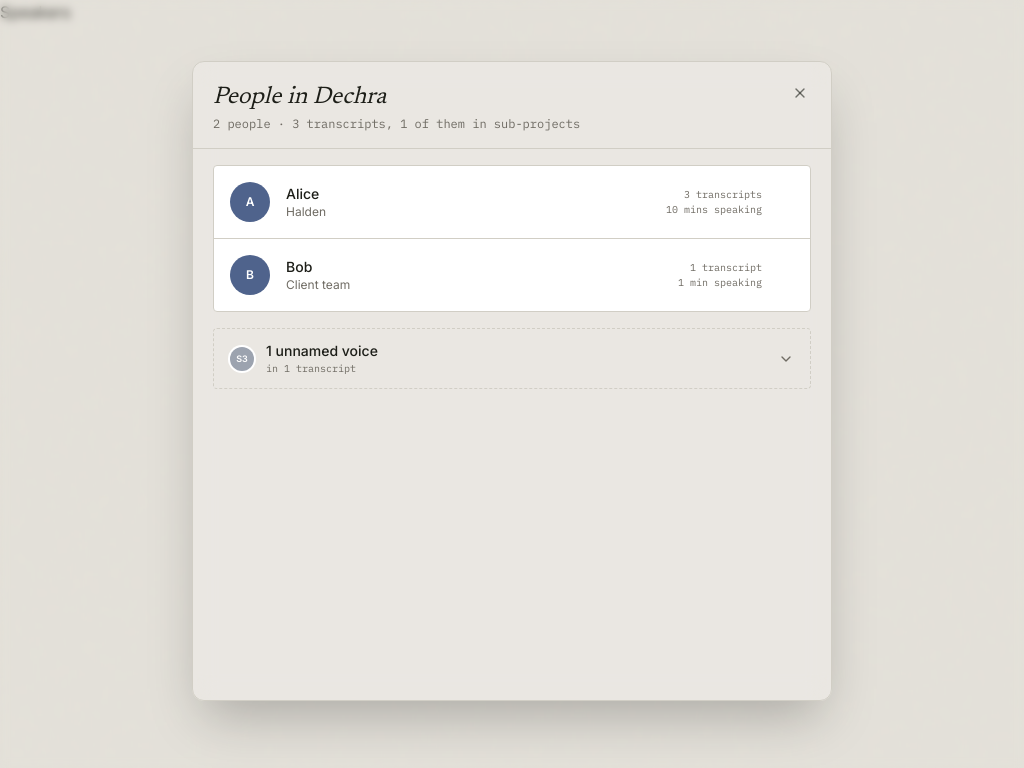
ProjectPeopleDialog › the summary follows the rows it sits above, even when the people list read differently
Click the button "A Alice Halden 3 transcripts 10 mins speaking".
click(250, 202)  # box left=214, top=166, right=810, bottom=239
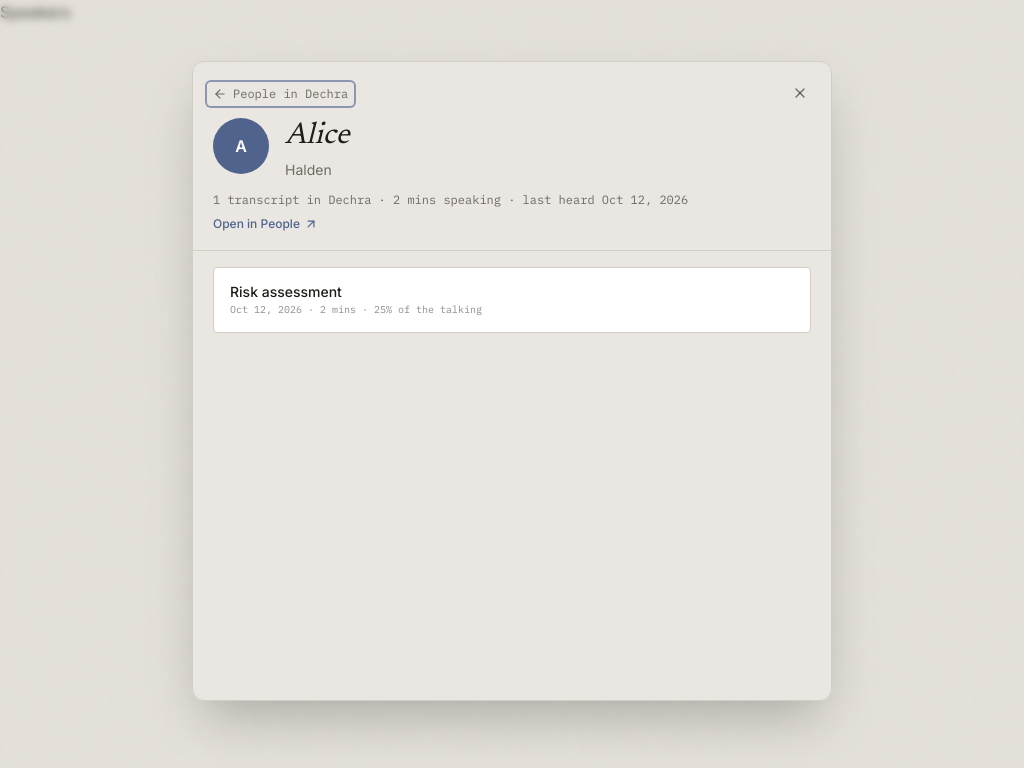
Expected: the text "1 transcript in Dechra · 2 mins speaking · last heard " is shown, left=213, top=192, right=688, bottom=207
